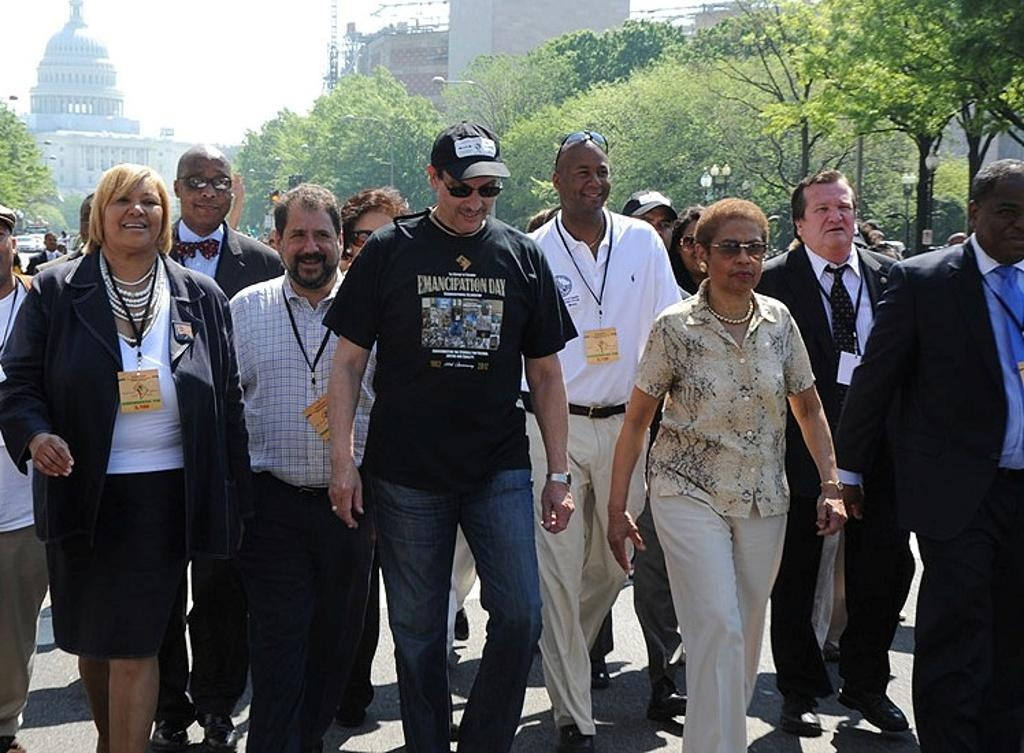human_face: (102, 179, 162, 249), (282, 209, 338, 283), (438, 166, 498, 232), (708, 222, 762, 290), (180, 158, 232, 226), (980, 183, 1024, 257), (803, 188, 853, 248), (561, 154, 611, 210), (350, 214, 398, 272), (628, 209, 672, 258), (680, 225, 720, 271), (78, 202, 106, 242), (0, 218, 12, 278), (46, 234, 56, 250)
